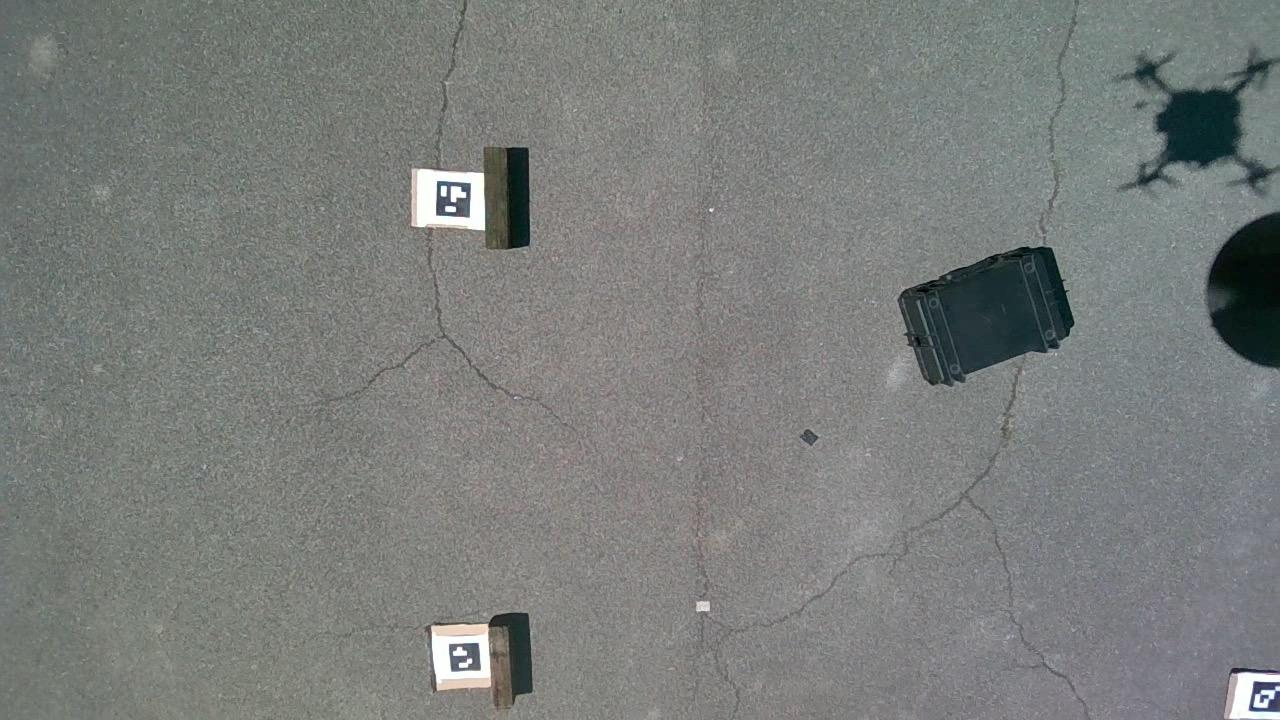rako: (896, 244, 1072, 389)
